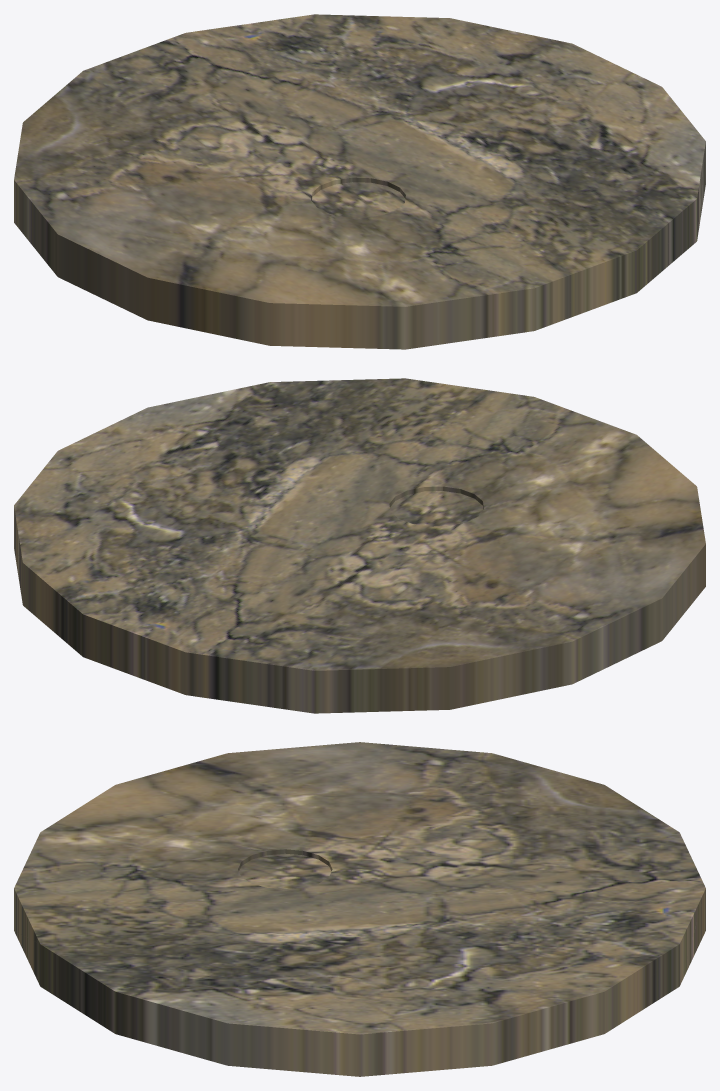
The model's file is circulo_piedra.FBX.
3 renders of one model, top to bottom at view 1: azimuth 30°, elevation 25°; view 2: azimuth 150°, elevation 25°; view 3: azimuth 270°, elevation 25°, orthographic.
Visible parts, largest first — view 1: circulo_piedra; view 2: circulo_piedra; view 3: circulo_piedra.
Part boxes in pixels (x1=…): circulo_piedra: x1=14, y1=14, x2=705, y2=349; circulo_piedra: x1=14, y1=378, x2=705, y2=713; circulo_piedra: x1=14, y1=742, x2=705, y2=1076.
Size of the model in its own units: 28.28 by 1.91 by 28.28.
